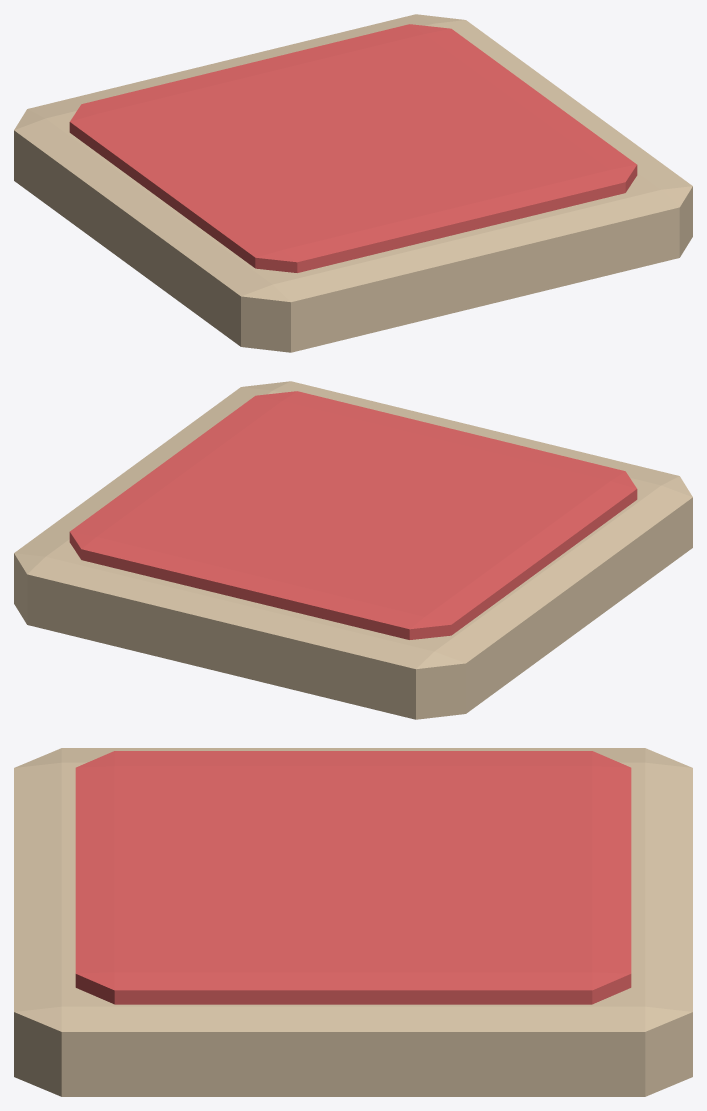
File: b16_closed_pizza_box.glb
3 renders of one model, top to bottom at view 1: azimuth 30°, elevation 25°; view 2: azimuth 150°, elevation 25°; view 3: azimuth 270°, elevation 25°, orthographic. The views are drawn at different scales.
Parts seen in each view (by area): view 1: b16_closed_pizza_box; view 2: b16_closed_pizza_box; view 3: b16_closed_pizza_box.
Part boxes in pixels (x1,y1,x2,y2): b16_closed_pizza_box: (14, 14, 692, 352); b16_closed_pizza_box: (14, 381, 692, 719); b16_closed_pizza_box: (14, 748, 692, 1096).
Bounding box in the file's own units: 0.354 × 0.053 × 0.358.
